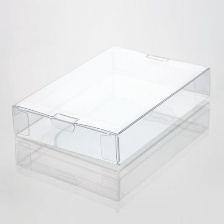plastic_box: (5, 39, 216, 173)
